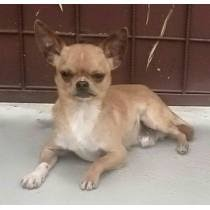chihuahua: (20, 15, 201, 195)
